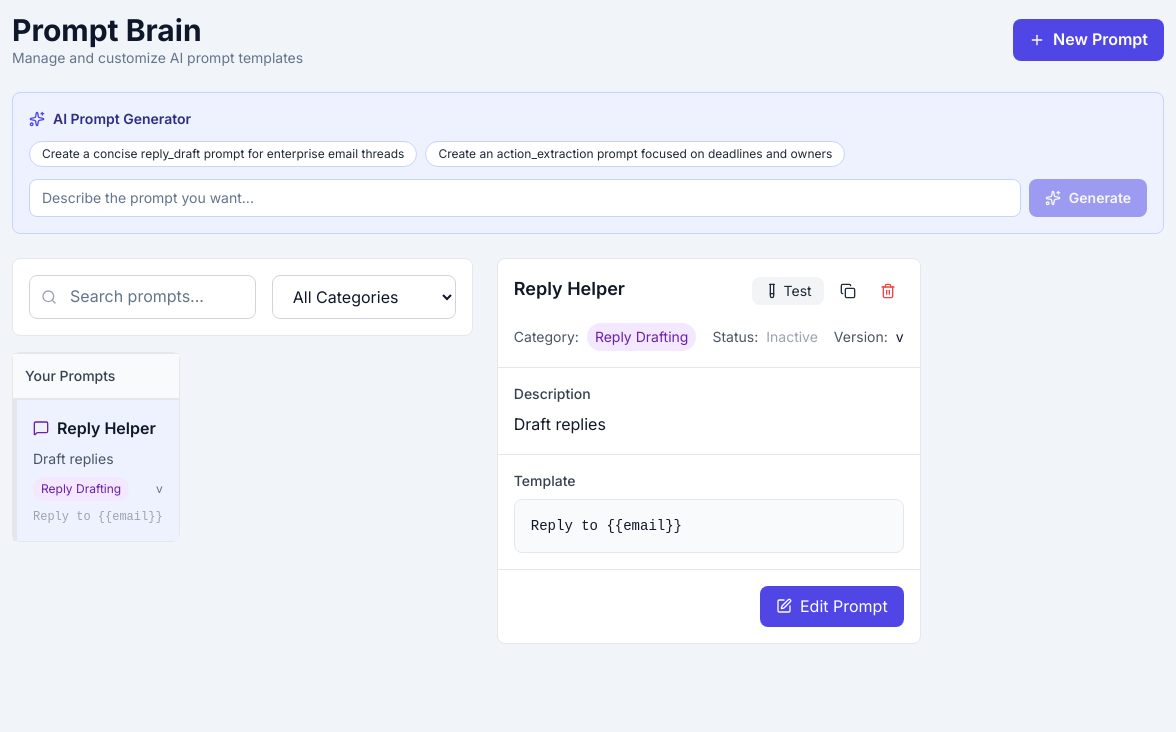
Test: prompt manager › filters prompts by search text
Check: the heading "Reply Helper" below "Your Prompts" is shown, box [57,418,156,438]
In the field with placeholder "Search prompts...": (142, 297) [29,275,256,319], type "missing"
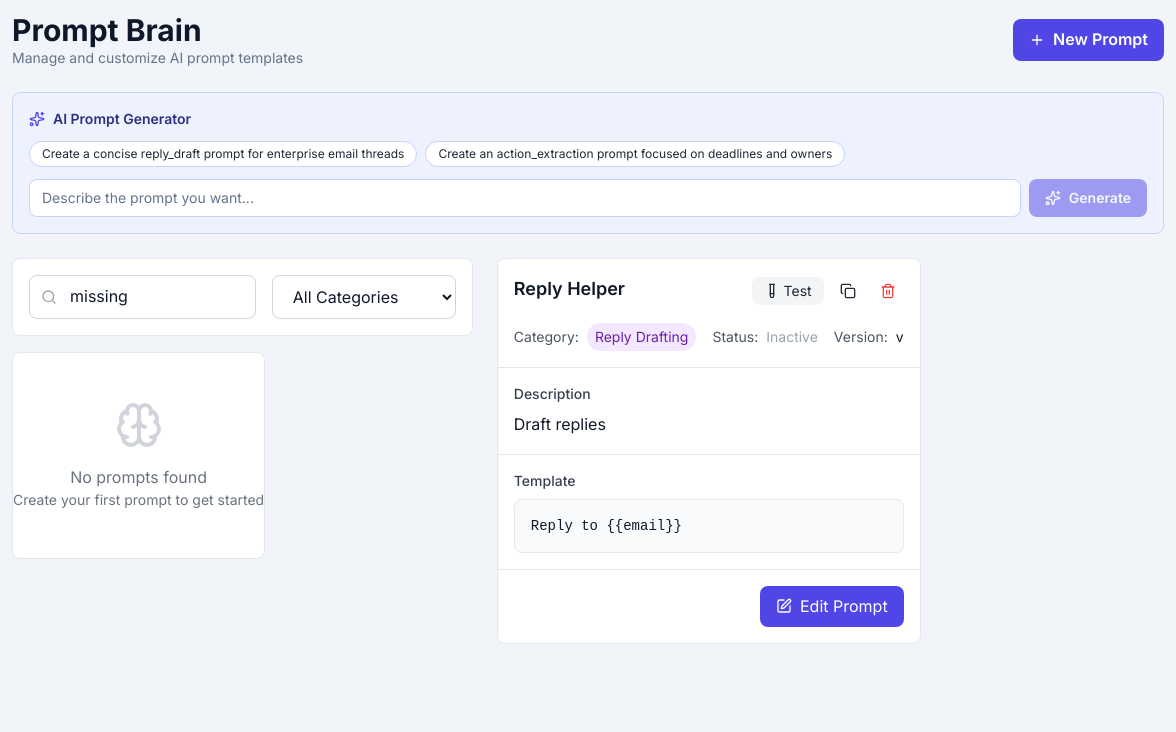
Check: the text "No prompts found" is shown, box [70,467,207,487]
